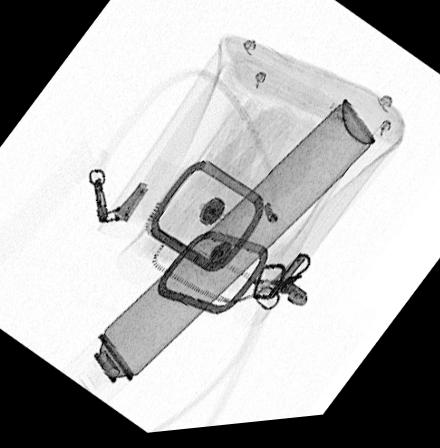Sprayer: (62, 106, 373, 405)
